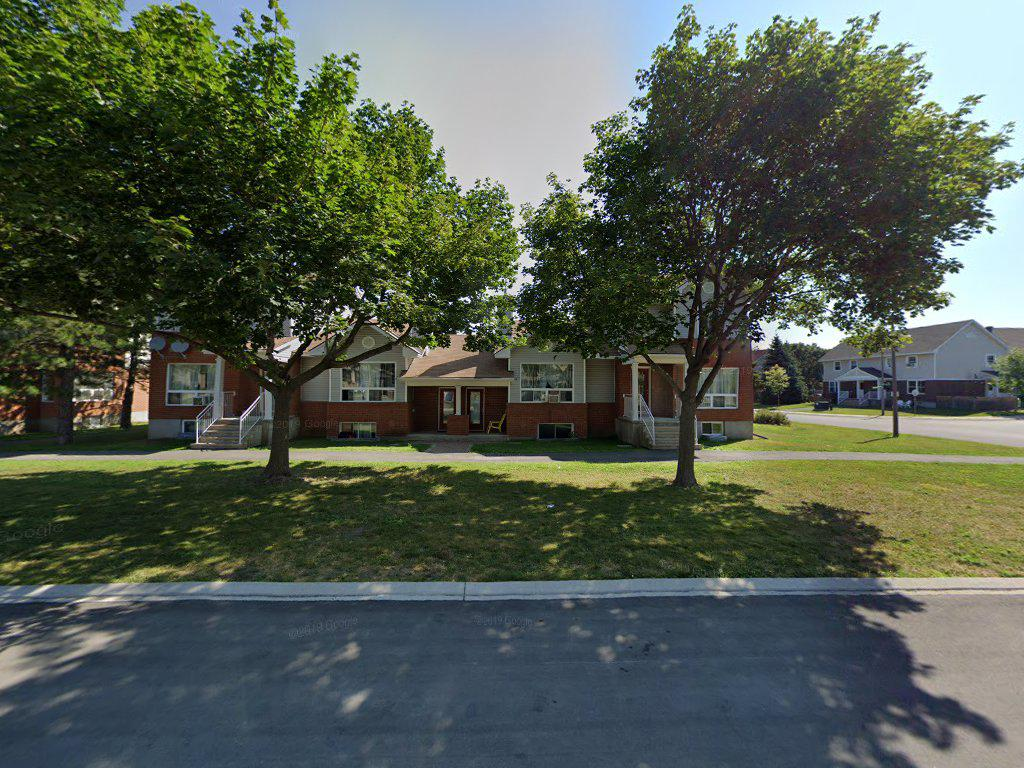trunk: (259, 363, 300, 489), (675, 360, 701, 502)
